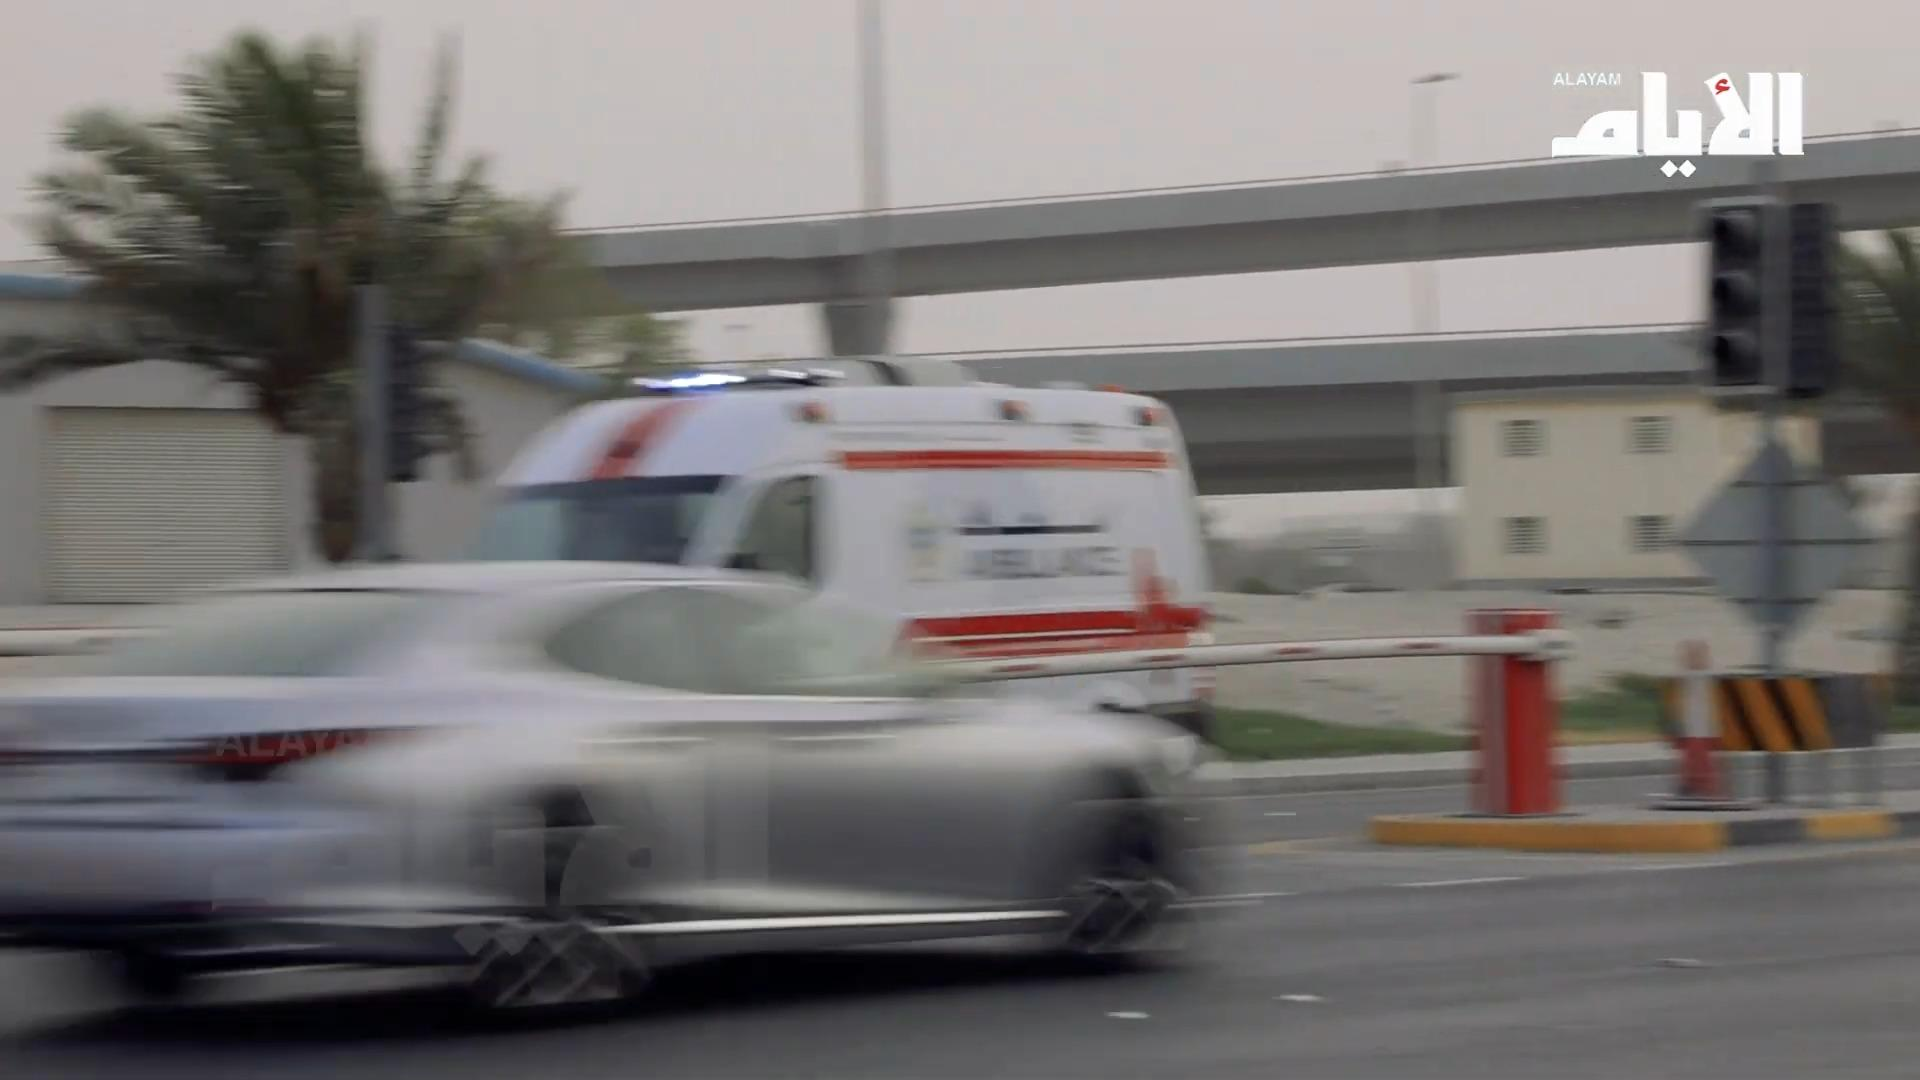ambulance_on: (463, 367, 1208, 795)
